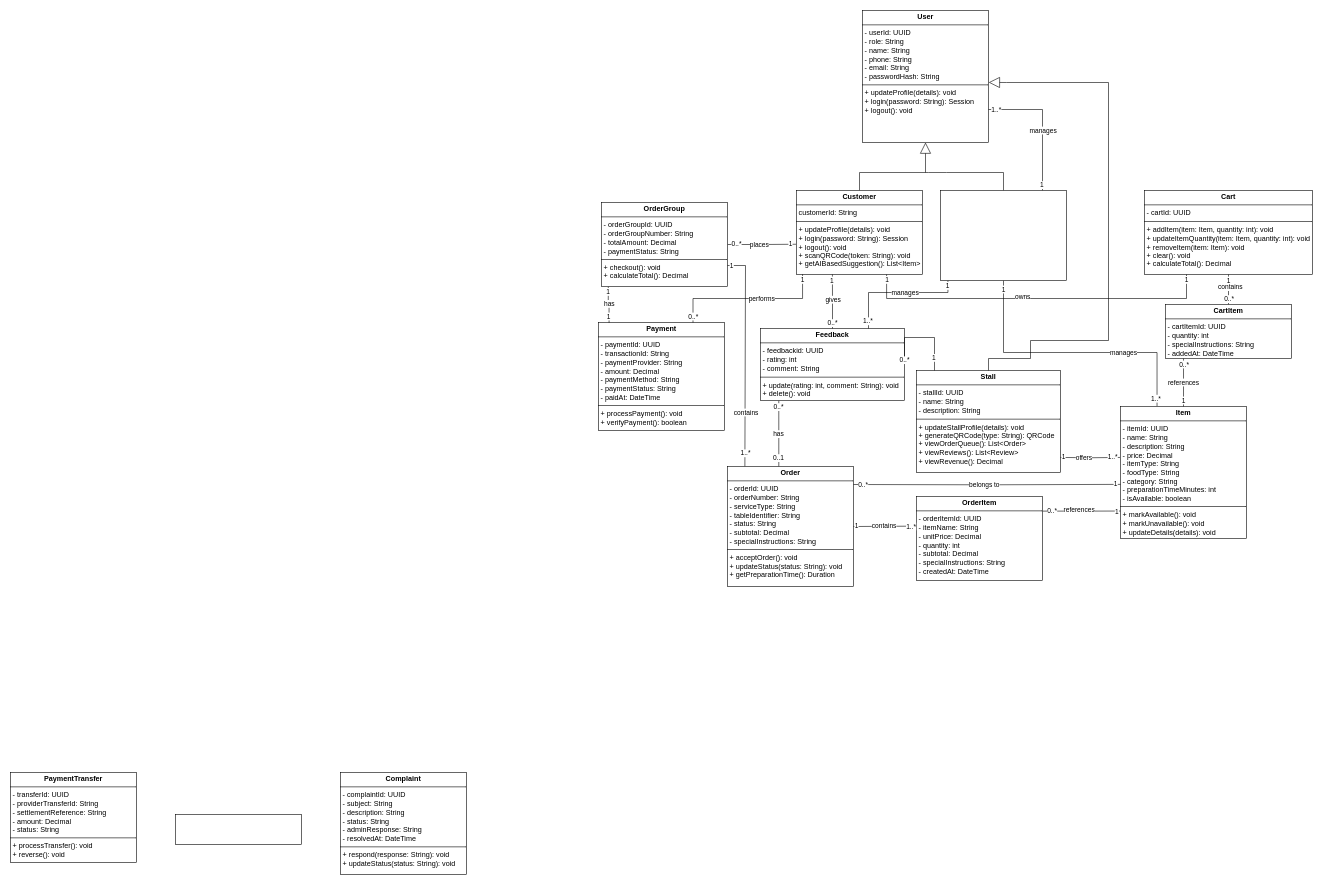
This 1323x885 diagram has some shape labels left out. The centre of each missing label's shape, as x and y in pixels:
Admin adminId: String + deactivate(): void: point (1003, 235)
Like - likeId: UUID: point (238, 829)
